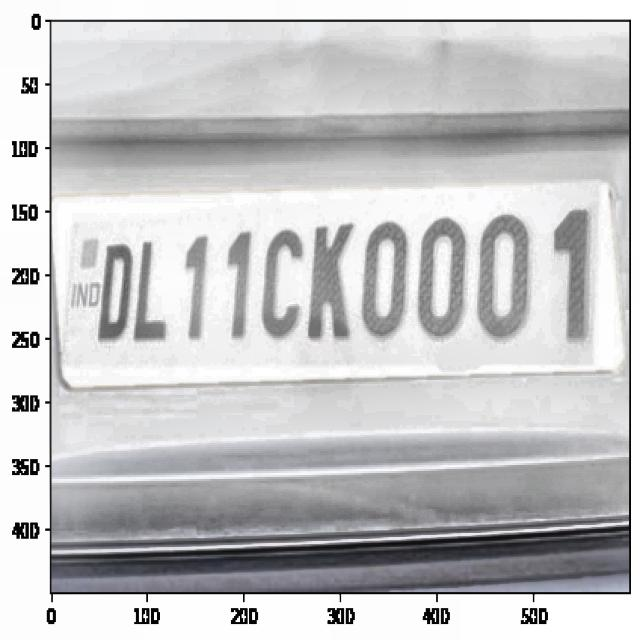license_plate: (81, 201, 602, 361)
